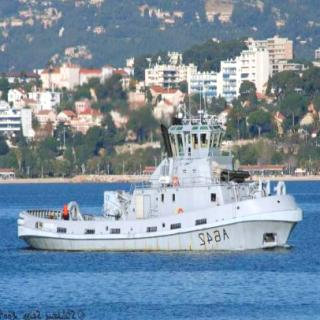Tug Boat: (0, 115, 306, 249)
